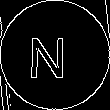N_N: (35, 29, 75, 81)
